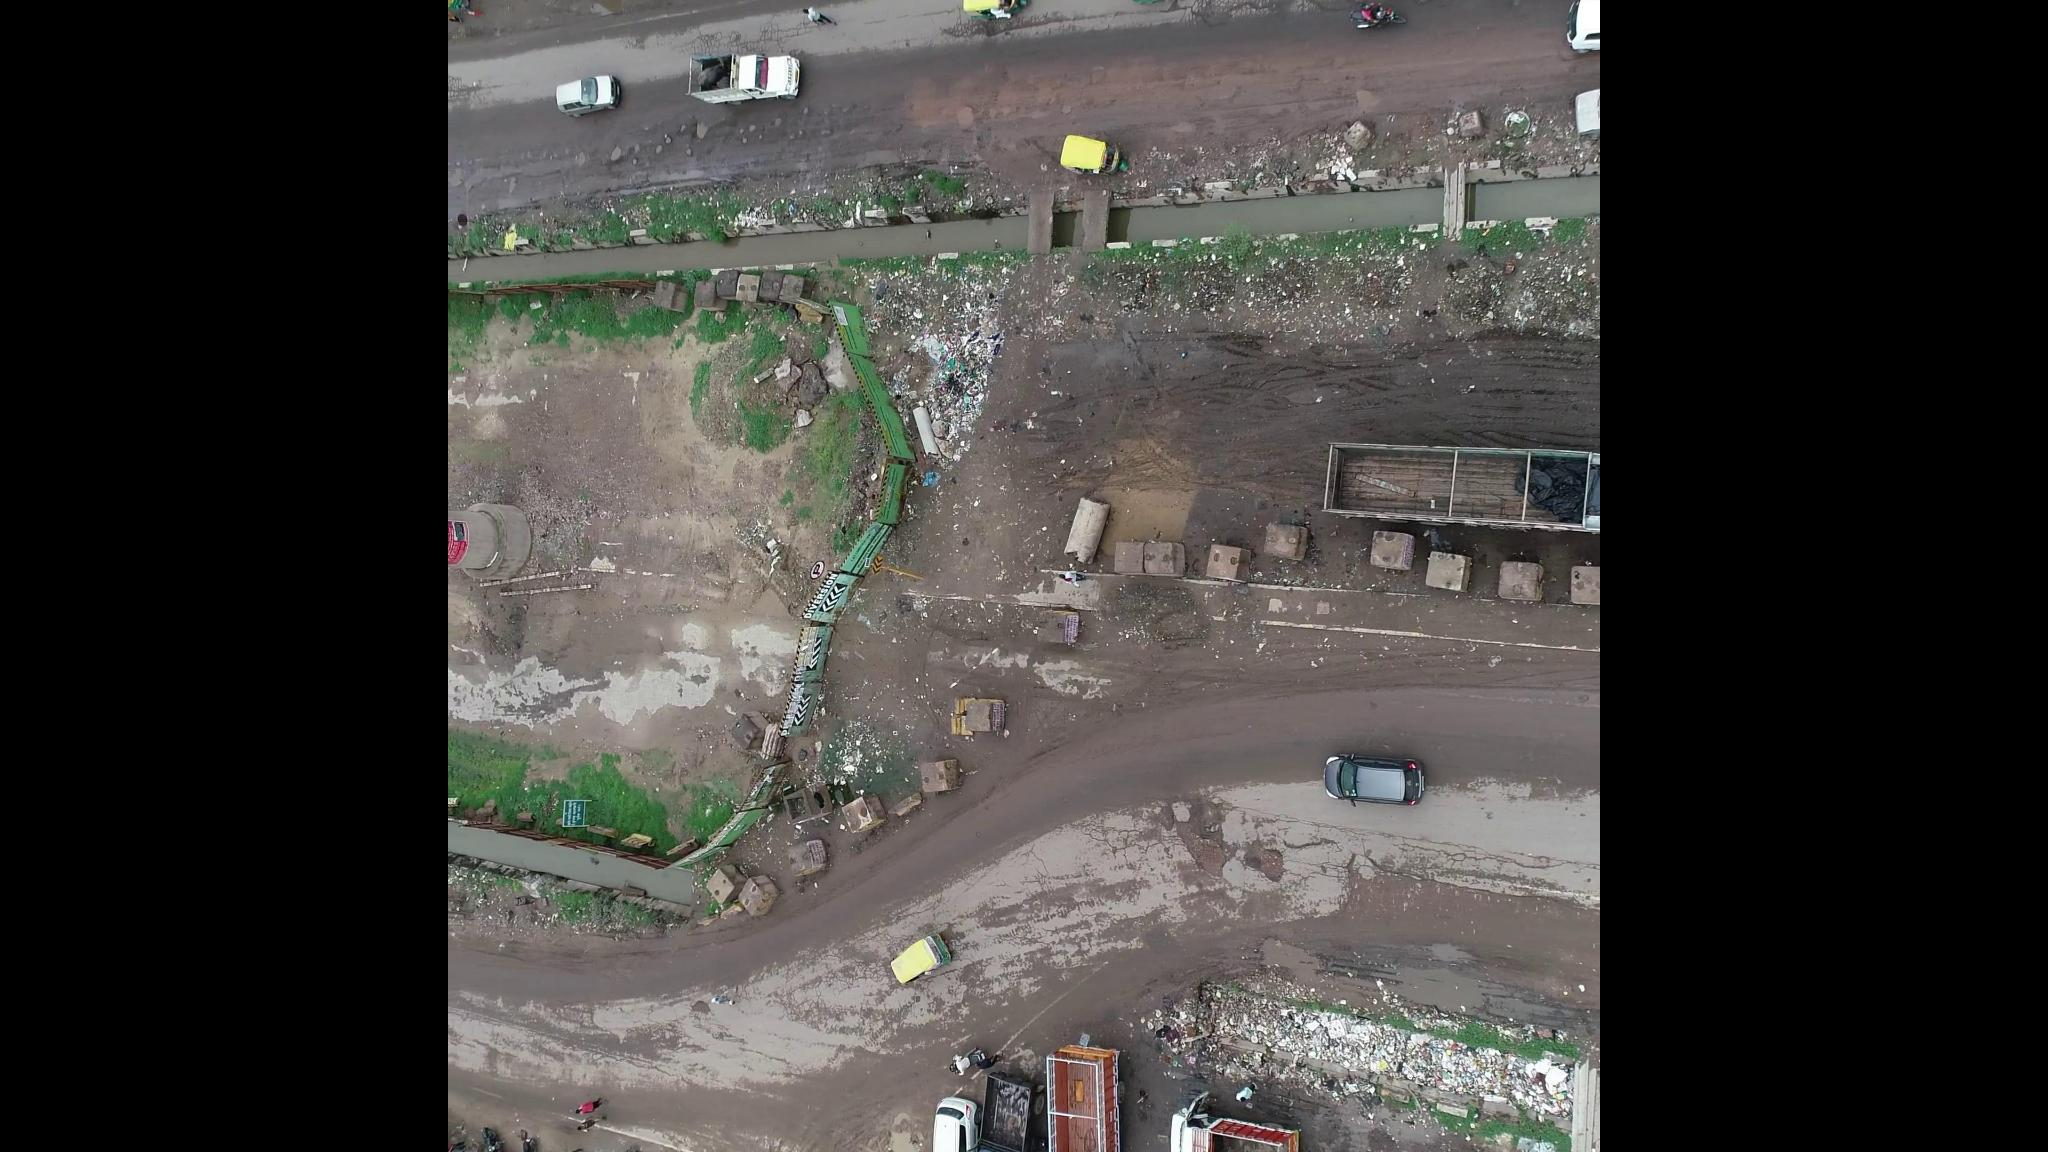Cracks: (1257, 806, 1556, 871), (793, 961, 882, 1041), (693, 7, 814, 58), (1193, 1, 1401, 25), (940, 13, 1061, 45), (1082, 819, 1175, 859)
Muddy_road: (1144, 651, 1423, 754)
Potholes: (594, 108, 769, 174)
Road_side_garbage: (1235, 1004, 1544, 1117), (940, 286, 1010, 437)
